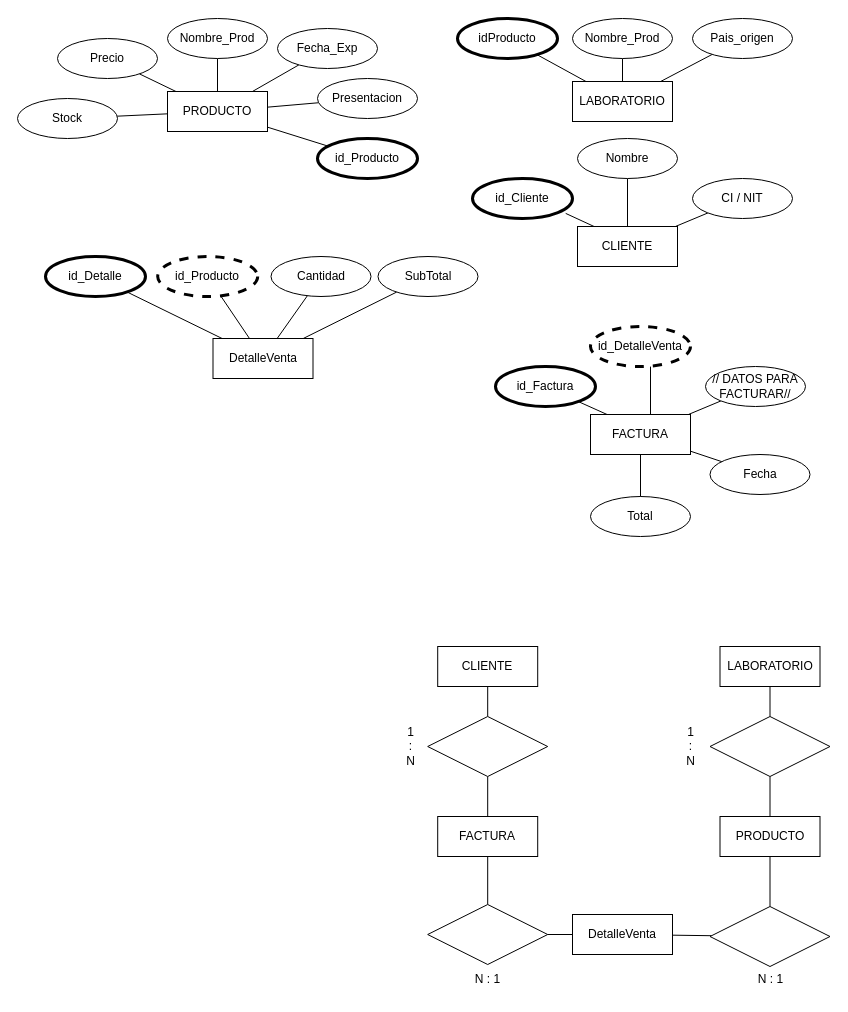
The diagram is 848 pixels wide and 1012 high, and some of its shapes have lost their labels. The centre of each missing label's shape, as x and y in pixels:
agarra: the point at 769,936
es_de: the point at 769,746
Recibe: the point at 487,746
tiene: the point at 487,934
